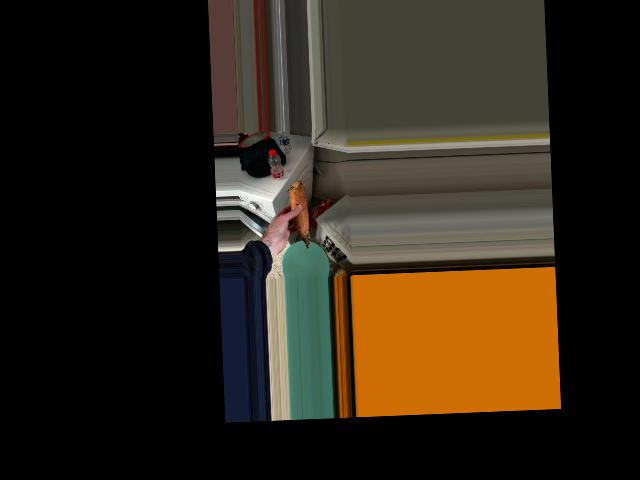sweet_potato: (287, 181, 309, 245)
